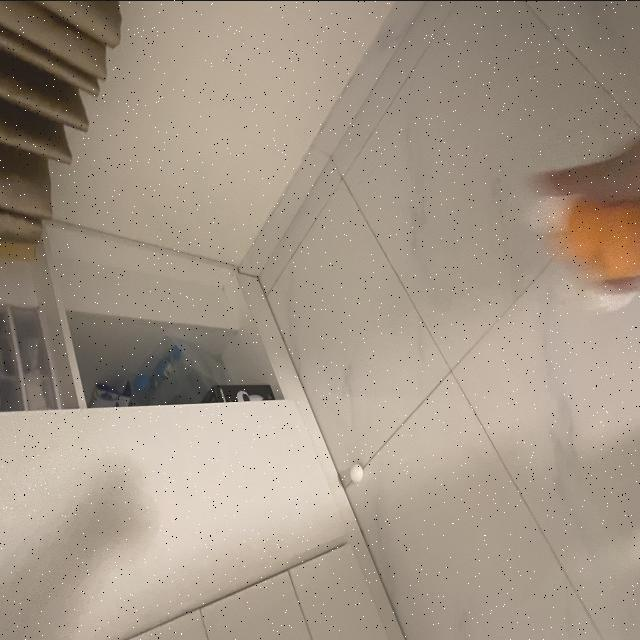ping-pong-ball: (348, 462, 364, 482)
